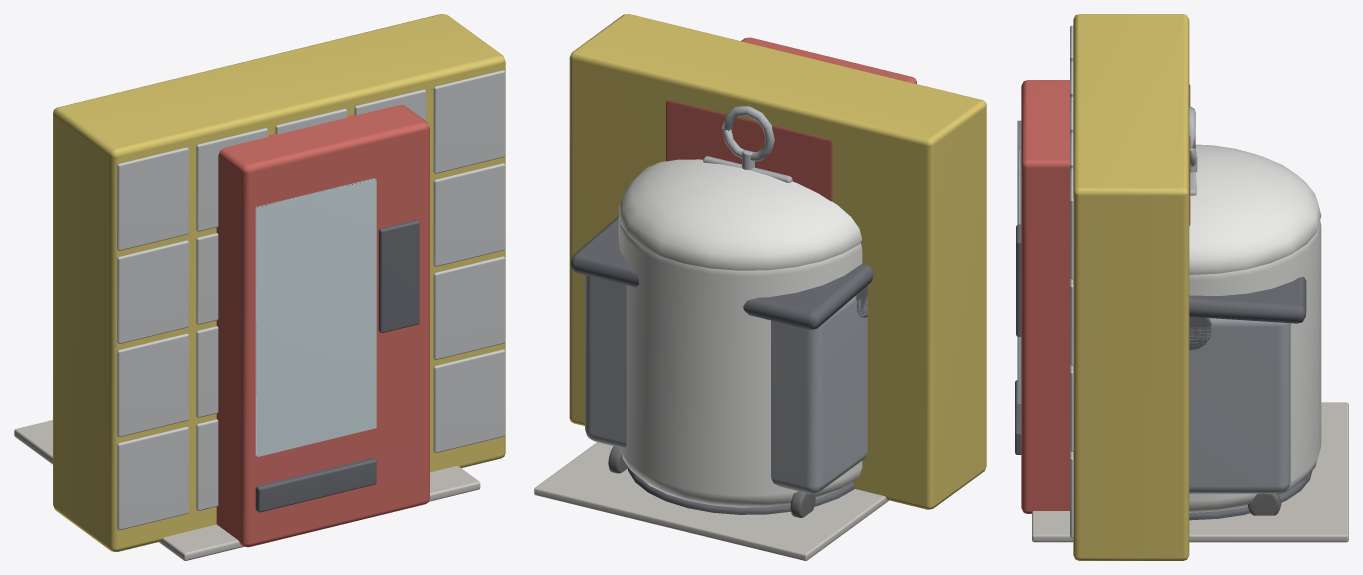
Rendered from bins.glb.
3 views of the same model, side by side, from view 1: azimuth 30°, elevation 25°; view 2: azimuth 150°, elevation 25°; view 3: azimuth 270°, elevation 25° (orthographic). The views are drawn at different scales.
Visible parts, largest first — view 1: parcel_locker, vending_machine, bin_underground; view 2: parcel_locker, recycling_column, waste_container, bin_underground, vending_machine; view 3: parcel_locker, recycling_column, vending_machine, waste_container, bin_underground.
Part boxes in pixels (left/top/right/bottom): parcel_locker: left=53, top=14, right=505, bottom=551; vending_machine: left=216, top=104, right=429, bottom=547; bin_underground: left=14, top=420, right=480, bottom=560; parcel_locker: left=569, top=14, right=986, bottom=509; recycling_column: left=618, top=106, right=867, bottom=514; waste_container: left=570, top=216, right=873, bottom=517; bin_underground: left=534, top=442, right=888, bottom=560; vending_machine: left=666, top=37, right=916, bottom=201; parcel_locker: left=1070, top=14, right=1189, bottom=560; recycling_column: left=1189, top=107, right=1321, bottom=520; vending_machine: left=1015, top=80, right=1190, bottom=513; waste_container: left=1189, top=276, right=1306, bottom=515; bin_underground: left=1032, top=402, right=1348, bottom=542.
Size of the model in its own units: 2 by 1.96 by 1.58.
